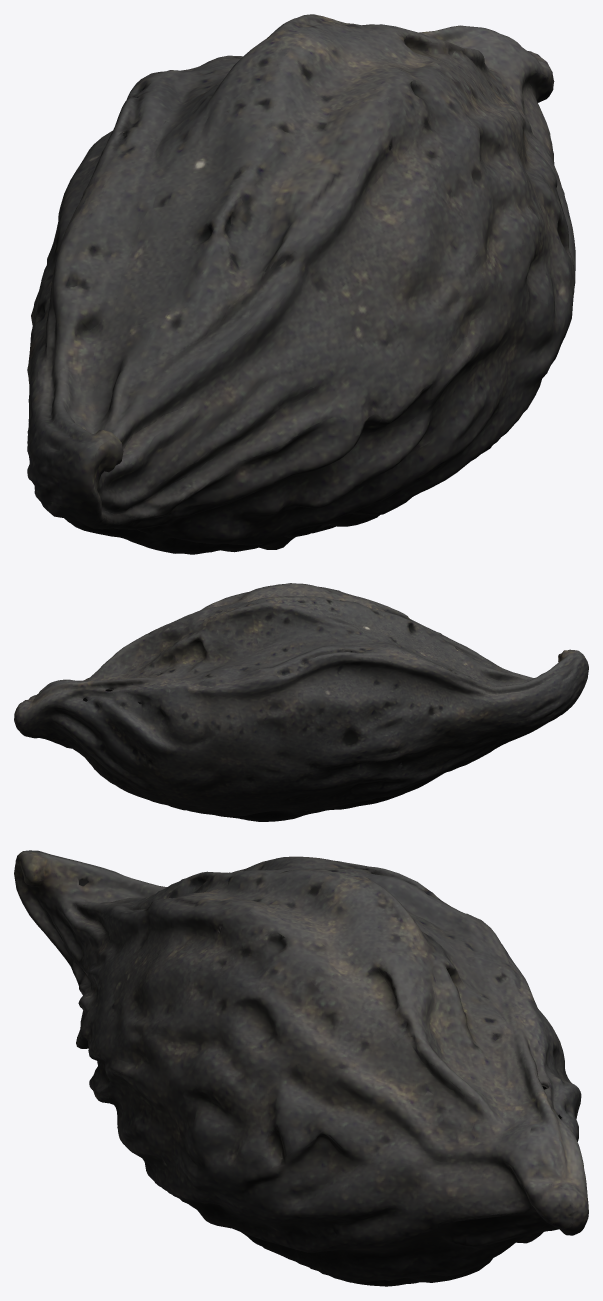
3 renders of one model, top to bottom at view 1: azimuth 30°, elevation 25°; view 2: azimuth 150°, elevation 25°; view 3: azimuth 270°, elevation 25°, orthographic. The views are drawn at different scales.
Visible parts, largest first — view 1: world; view 2: world; view 3: world.
Boxes of the visible parts, x1,y1,x2,y2 form: world: [27, 14, 575, 554]; world: [14, 583, 588, 821]; world: [14, 850, 588, 1286].
Bounding box in the file's own units: 0.28 × 0.1472 × 0.2142.
1 material, 1 textured.
